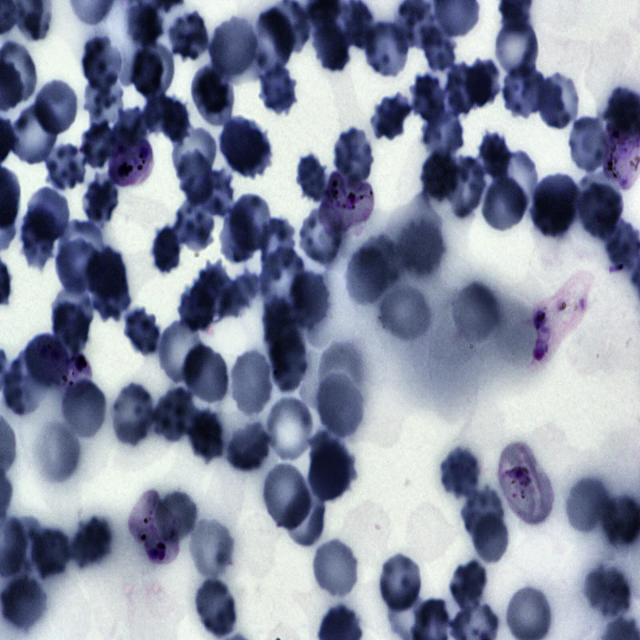red blood cell: (262, 394, 316, 464), (261, 460, 312, 531), (156, 317, 208, 386), (6, 101, 59, 168), (314, 371, 364, 440), (451, 280, 502, 346), (310, 536, 361, 601), (108, 381, 157, 448), (306, 436, 355, 503), (185, 514, 234, 581), (530, 174, 578, 241), (210, 15, 258, 82), (258, 247, 304, 316), (229, 348, 274, 417), (479, 171, 528, 234), (183, 343, 231, 406), (362, 19, 412, 79), (377, 552, 425, 614), (577, 178, 622, 244), (284, 484, 329, 550), (298, 207, 347, 267), (223, 118, 272, 178), (378, 288, 431, 342), (58, 219, 104, 280), (189, 261, 234, 323), (584, 563, 632, 621), (189, 66, 236, 125), (32, 79, 80, 136), (194, 576, 238, 638), (230, 191, 274, 253), (537, 71, 581, 132), (467, 507, 511, 568), (25, 186, 72, 243), (129, 42, 176, 99), (3, 346, 41, 416), (397, 220, 445, 275), (252, 8, 294, 70), (152, 383, 196, 442), (566, 116, 610, 175), (494, 19, 538, 78), (56, 240, 104, 294), (499, 150, 537, 218), (332, 128, 375, 188), (61, 381, 106, 438), (502, 62, 547, 119), (80, 36, 124, 94), (354, 234, 402, 287), (447, 154, 486, 218), (418, 148, 464, 202), (175, 194, 218, 251), (312, 15, 352, 76), (345, 248, 387, 306), (566, 478, 610, 533), (269, 327, 306, 392), (185, 406, 226, 464), (172, 126, 216, 180), (19, 206, 56, 270), (71, 514, 113, 570), (439, 445, 482, 499), (169, 9, 210, 64), (462, 487, 504, 540), (288, 272, 329, 326), (156, 489, 197, 542), (86, 246, 126, 299), (226, 422, 269, 471), (89, 270, 131, 320), (258, 216, 296, 271), (30, 529, 73, 577), (369, 92, 411, 140), (216, 270, 258, 318), (256, 64, 296, 114), (177, 150, 214, 204), (221, 207, 256, 264), (264, 296, 298, 354), (83, 78, 124, 126), (446, 62, 482, 116), (42, 141, 84, 187), (423, 112, 464, 159), (52, 302, 91, 351), (179, 282, 217, 332), (51, 285, 92, 331), (150, 222, 184, 277), (478, 132, 514, 182), (422, 25, 458, 75), (196, 168, 234, 215), (464, 57, 499, 108), (83, 175, 118, 226), (410, 72, 446, 121), (446, 567, 486, 610), (80, 118, 114, 168), (127, 2, 163, 49), (124, 306, 159, 354), (158, 97, 190, 146), (297, 149, 325, 202), (113, 105, 148, 146), (143, 94, 175, 134)
trophozoite: (531, 271, 592, 365), (498, 443, 554, 524), (128, 491, 180, 564), (104, 122, 156, 192), (38, 333, 94, 398), (322, 170, 374, 236), (601, 118, 640, 189)
